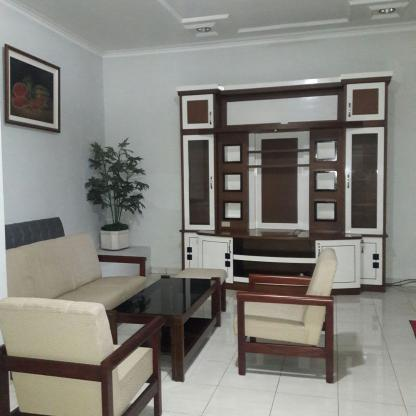kursi: (2, 296, 166, 416), (239, 252, 342, 385)
sova: (4, 240, 146, 311)
